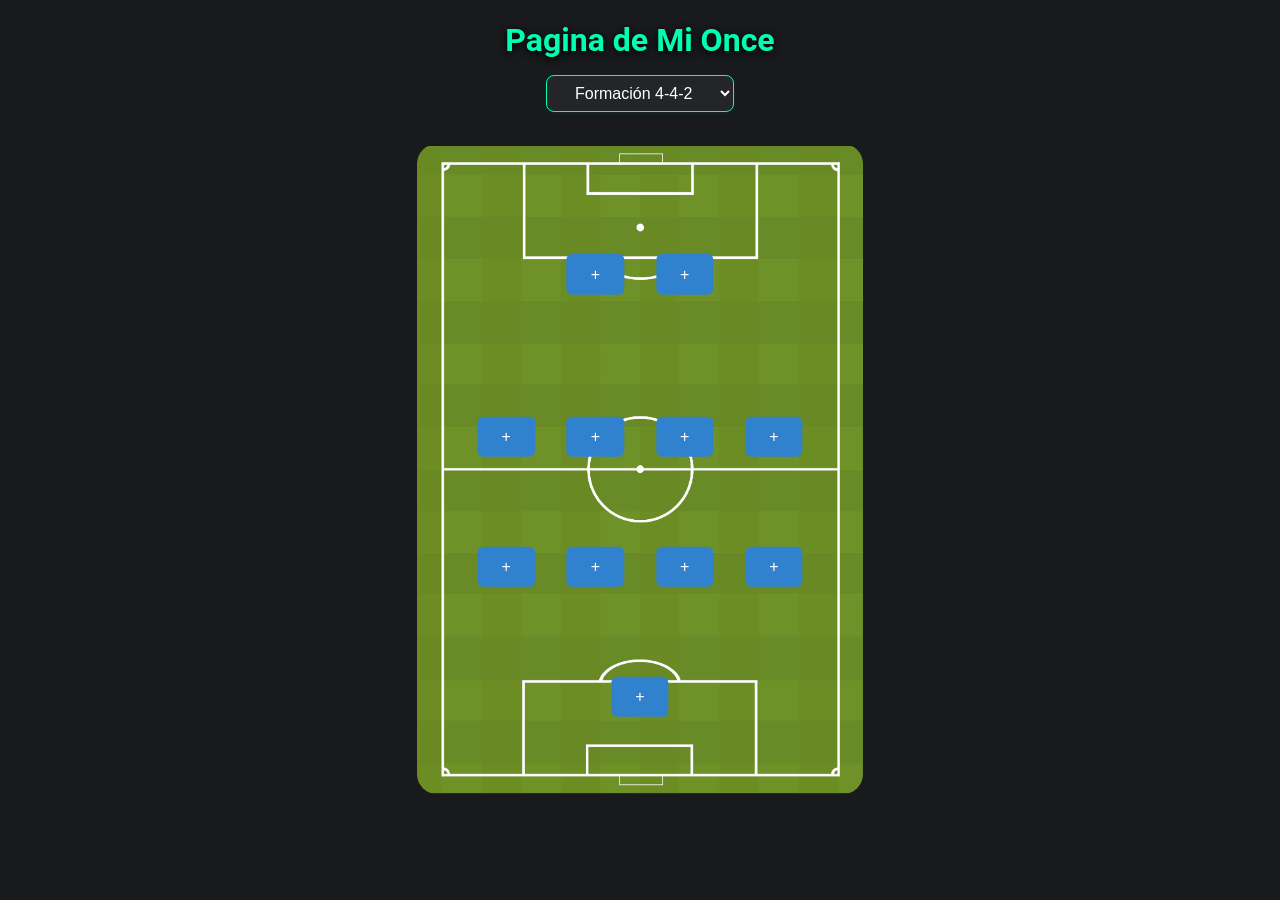
Scenario: en la pagina MiOnce › te permite asignar un jugador a una posicion y lo muestra como seleccionado
Click the 11th button "+" at (640, 697), box x1=611 y1=677 x2=669 y2=717
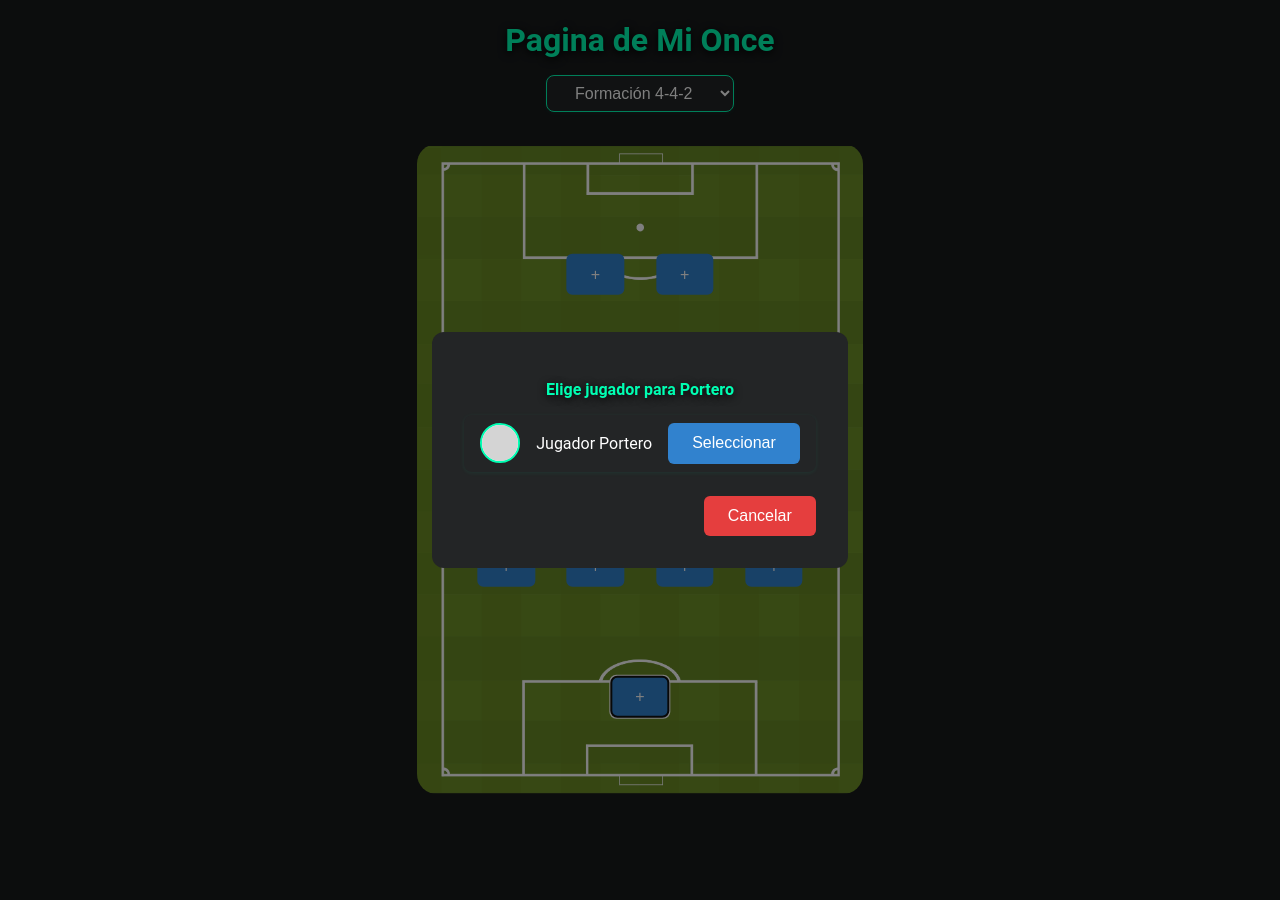
Click the button "Seleccionar" at (734, 443), box x1=668 y1=423 x2=800 y2=464
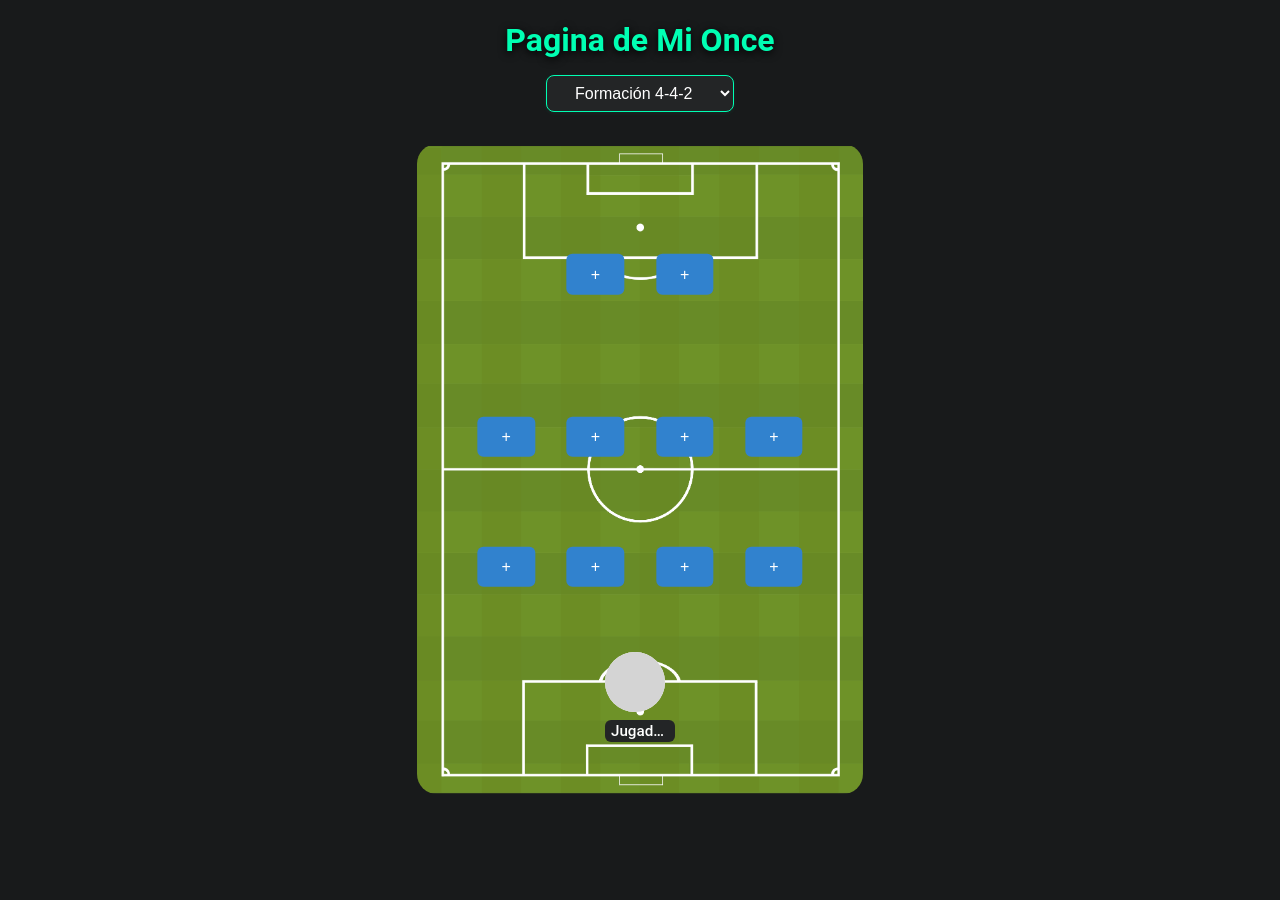
Expected: the element with test id "portero" reads "Jugador Portero", x1=611 y1=722 x2=722 y2=740
